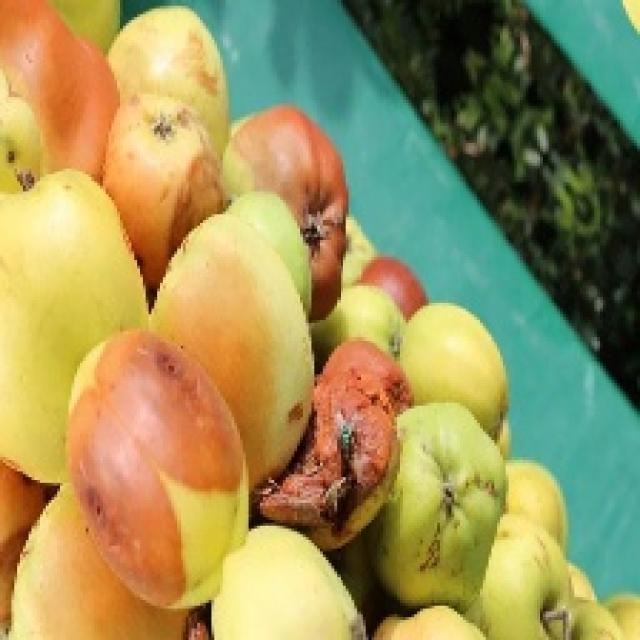rotten_apple: (72, 332, 241, 600), (314, 341, 408, 543), (228, 109, 351, 242), (111, 95, 218, 222)
